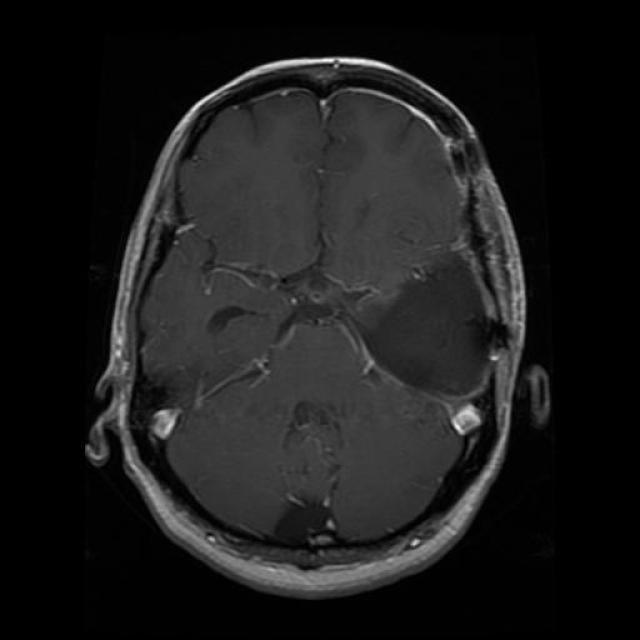glioma: (352, 253, 508, 402)
